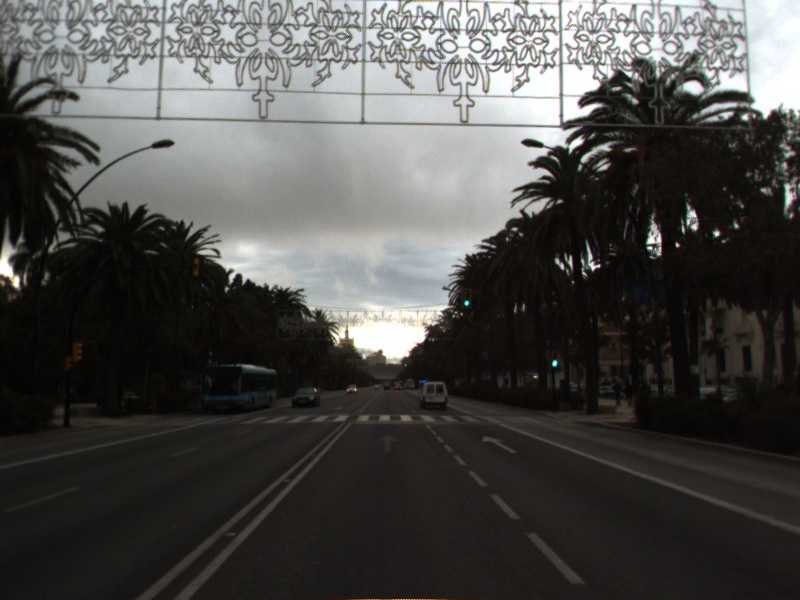STRAIGHT: (480, 433, 521, 455), (375, 432, 402, 455)
